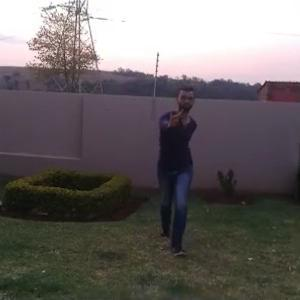takeoff-hand: (163, 101, 188, 132)
